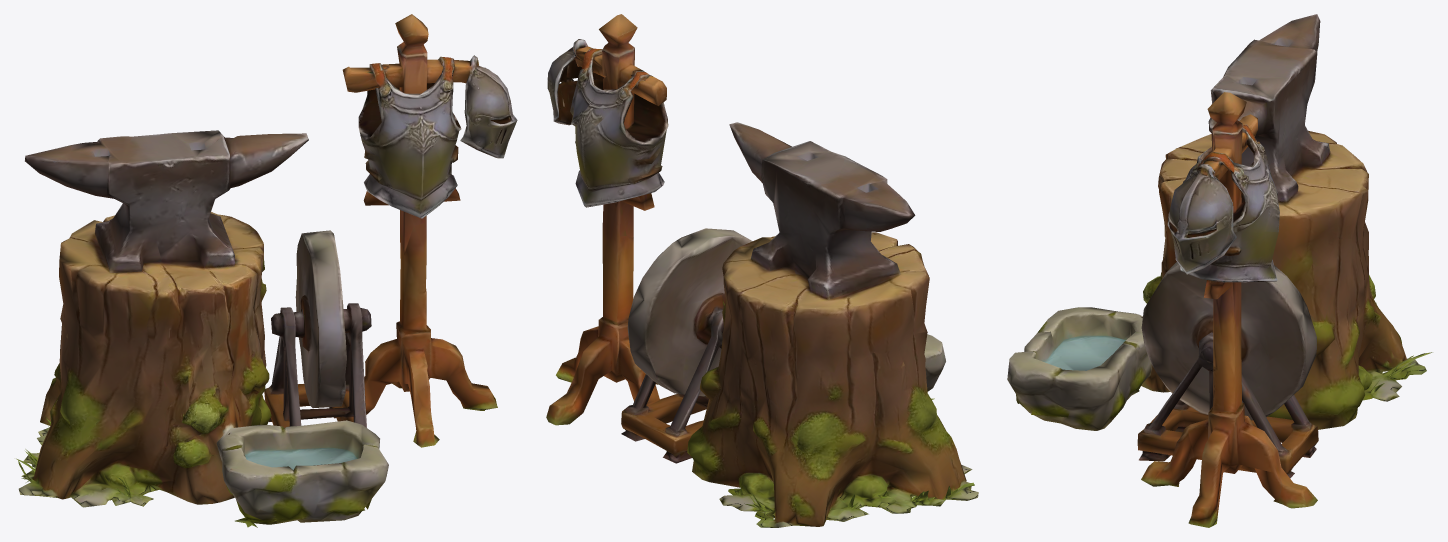
File: town_station_anvil_armorer.glb
The picture shows the model from 3 angles, left to right: view 1: azimuth 30°, elevation 25°; view 2: azimuth 150°, elevation 25°; view 3: azimuth 270°, elevation 25°; orthographic projection. The views are drawn at different scales.
Visible parts, largest first — view 1: tripo_node_2d12c625-0791-4f69-bcb0-0851fe6f7515; view 2: tripo_node_2d12c625-0791-4f69-bcb0-0851fe6f7515; view 3: tripo_node_2d12c625-0791-4f69-bcb0-0851fe6f7515.
Boxes of the visible parts, <box> form: tripo_node_2d12c625-0791-4f69-bcb0-0851fe6f7515: <box>16,14,517,527</box>; tripo_node_2d12c625-0791-4f69-bcb0-0851fe6f7515: <box>546,14,978,527</box>; tripo_node_2d12c625-0791-4f69-bcb0-0851fe6f7515: <box>1007,14,1432,527</box>.
Bounding box in the file's own units: 2.64 × 2.2 × 2.08.
1 material, 1 textured.
